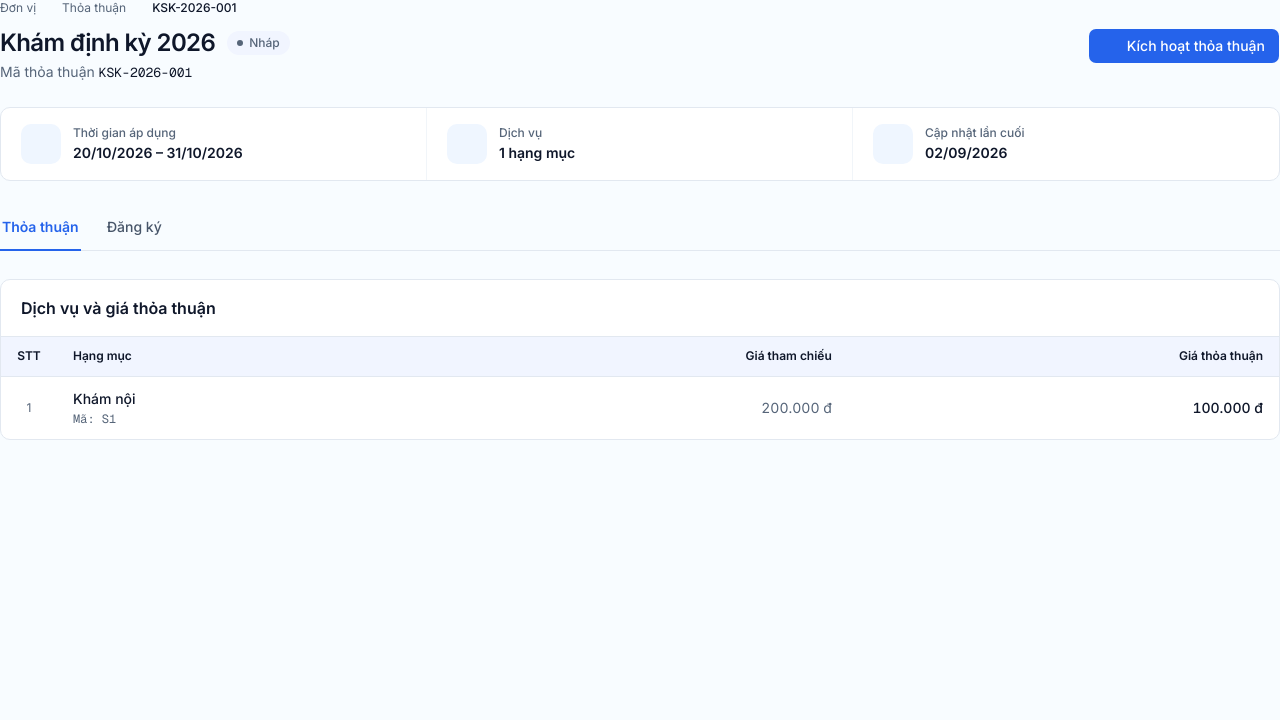
activate a health examination agreement › confirms, sends the read version and shows the agreement as active
Click the button "Kích hoạt thỏa thuận": (1184, 46) [1088,28,1279,64]
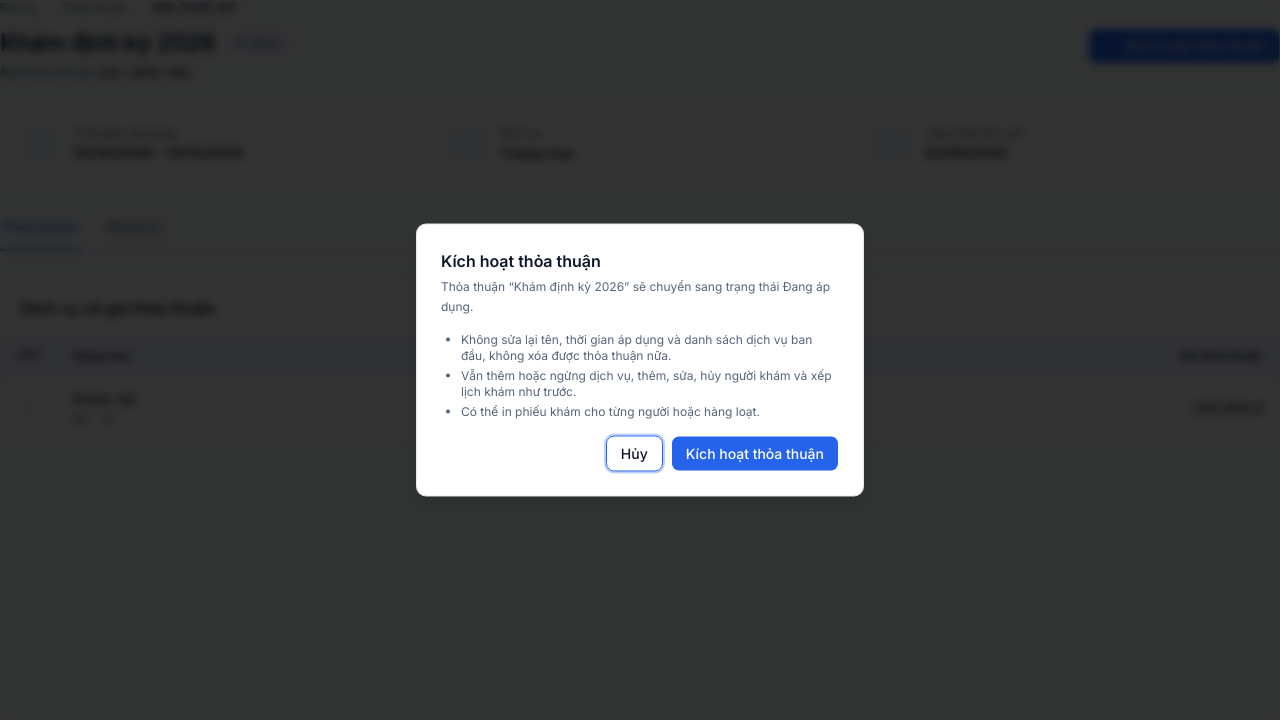
Result: the list item "Không sửa lại tên" is shown at [461,332,812,362]
Click the button "Kích hoạt thỏa thuận": (755, 454) [671,436,839,472]
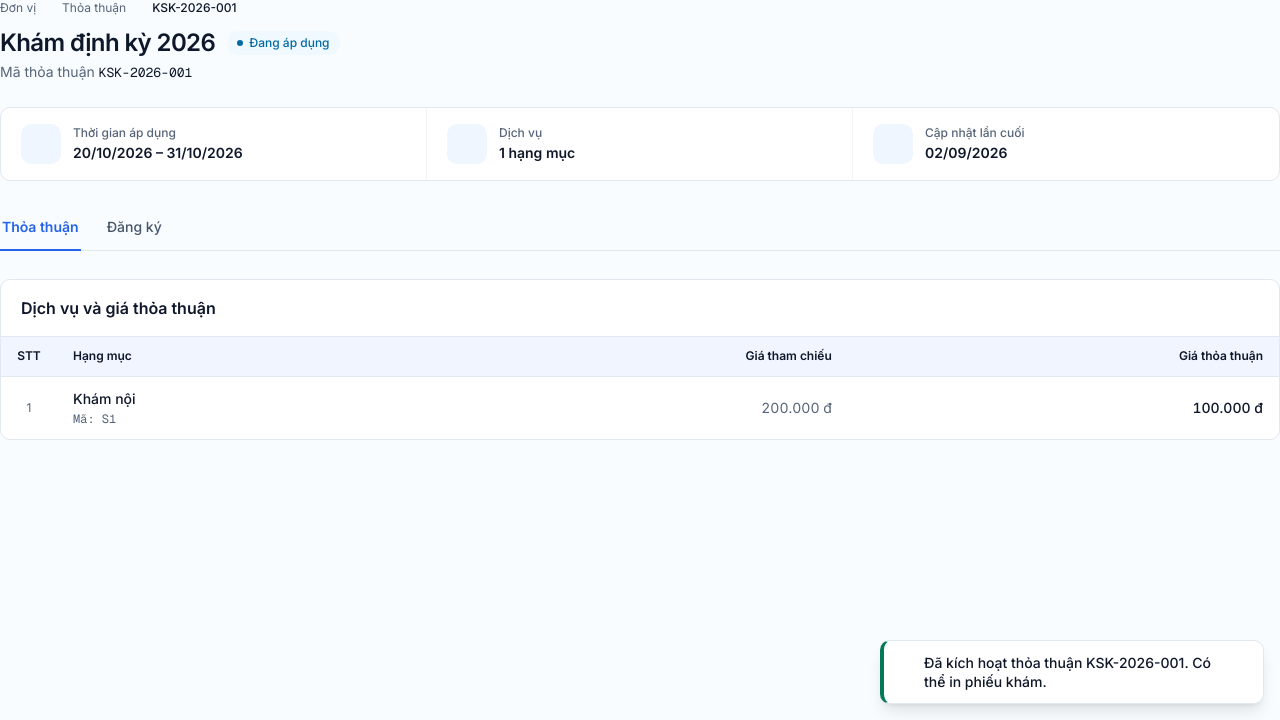
Result: the text "Đang áp dụng" is shown at [227,31,340,55]
